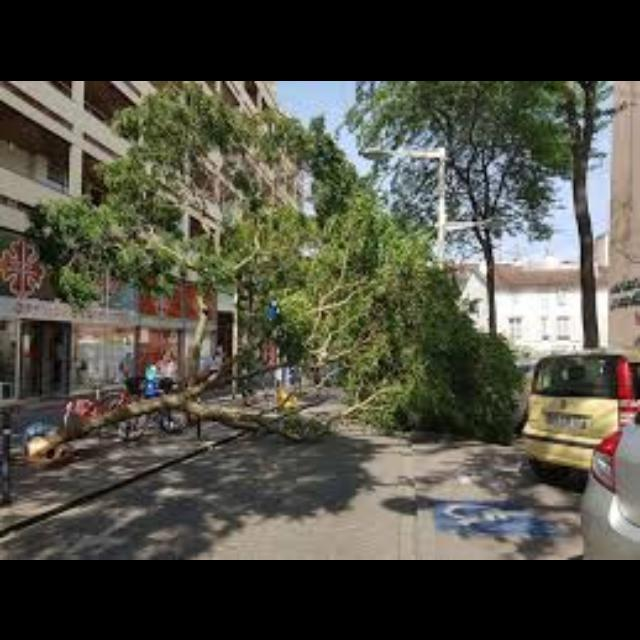Fallen Tree: (20, 332, 280, 472)
